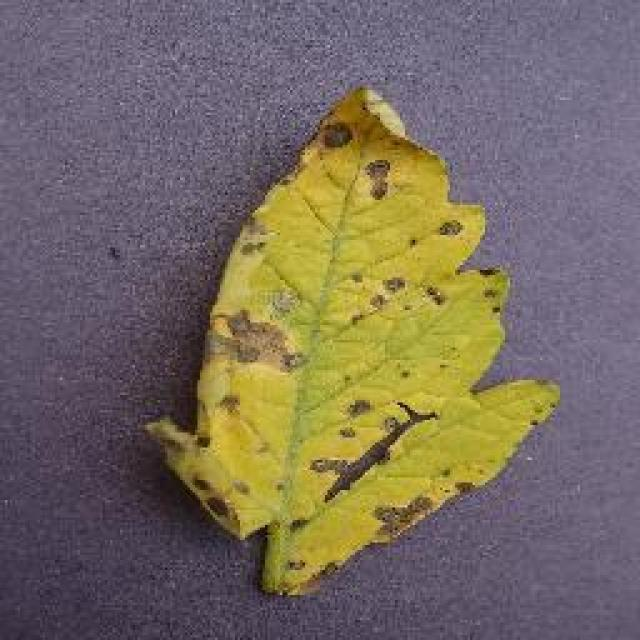Tomato target spot leaf: (144, 74, 561, 591)
